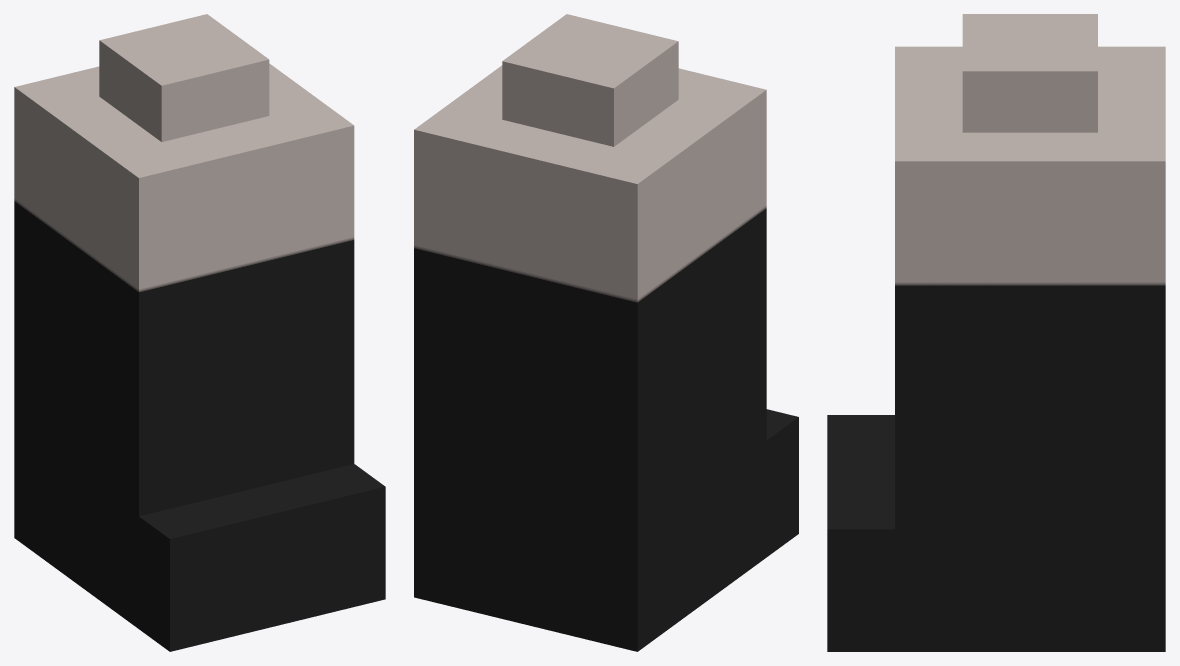
File: Knee033.fbx
3 renders of one model, left to right at view 1: azimuth 30°, elevation 25°; view 2: azimuth 150°, elevation 25°; view 3: azimuth 270°, elevation 25°, orthographic. The views are drawn at different scales.
Parts seen in each view (by area): view 1: Knee033; view 2: Knee033; view 3: Knee033.
Part boxes in pixels (bbox=[...]): Knee033: bbox=[14, 14, 385, 651]; Knee033: bbox=[414, 14, 798, 651]; Knee033: bbox=[827, 14, 1165, 651].
Bounding box in the file's own units: 4 × 9 × 5.
